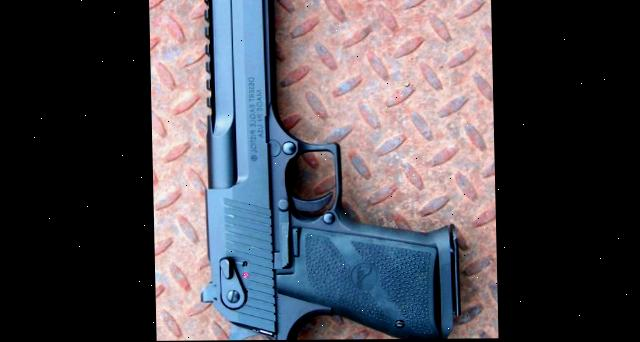pistol: (190, 0, 475, 341)
